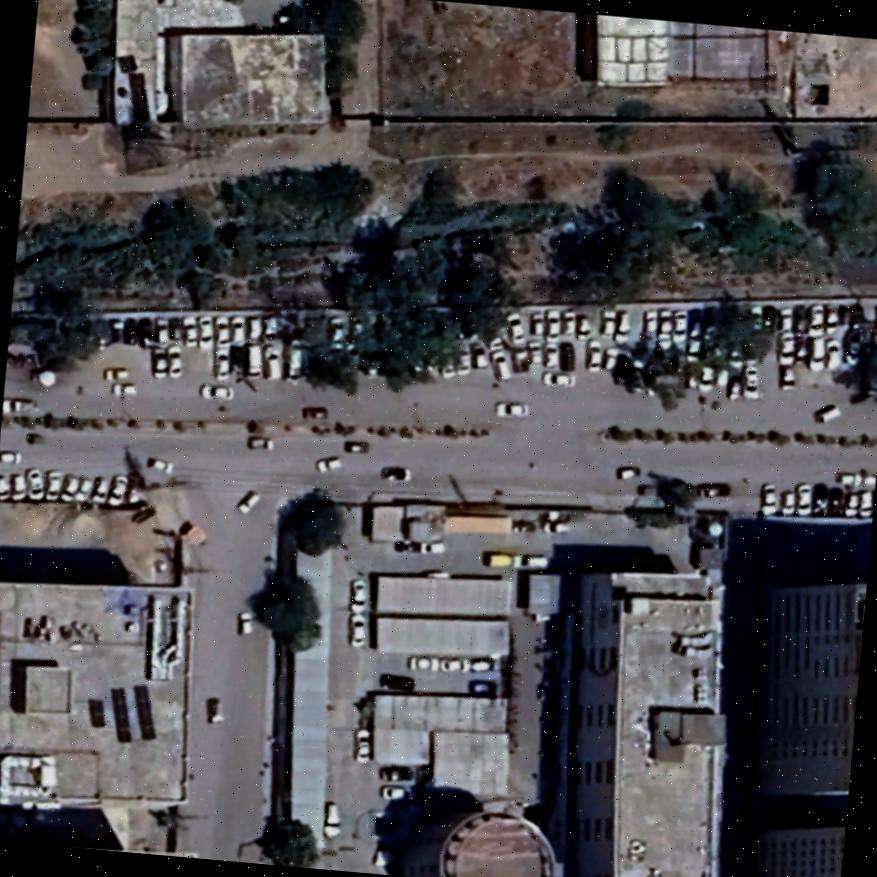Solarpanel: (129, 678, 160, 742), (109, 682, 134, 745), (83, 691, 106, 732)
